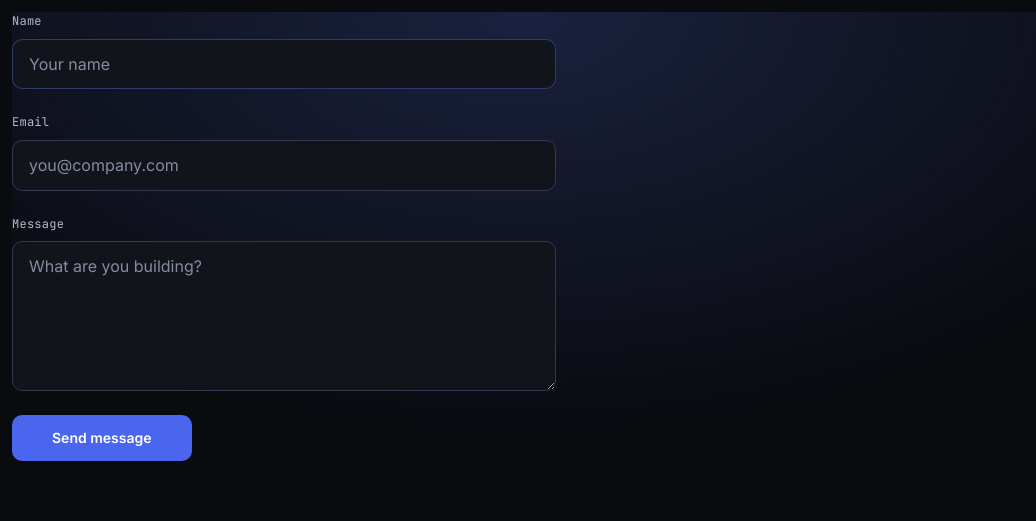
ContactForm › posts valid input and confirms in the live region
In the field labelled "Name": (284, 64) 12,39 -> 556,89, type "Anna Grigoryan"
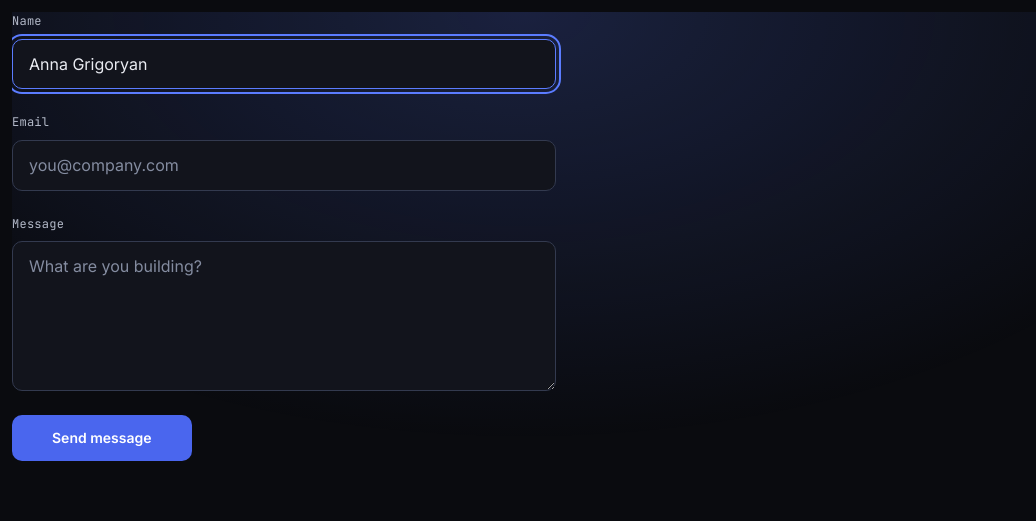
In the field labelled "Email": (284, 165) 12,140 -> 556,191, type "anna@example.com"
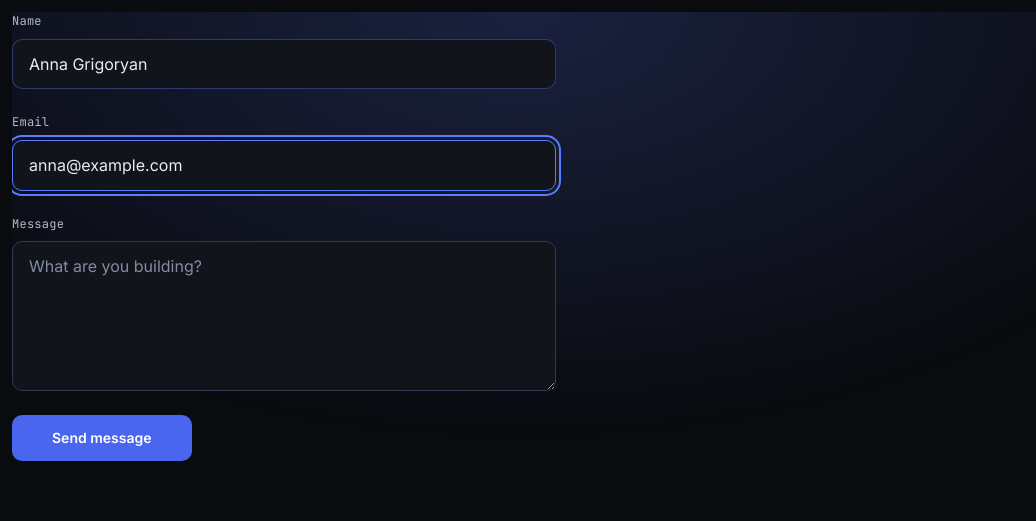
In the text box labelled "Message": (284, 316) 12,241 -> 556,391, type "We are hiring a frontend engineer and your architecture work looks relevant."
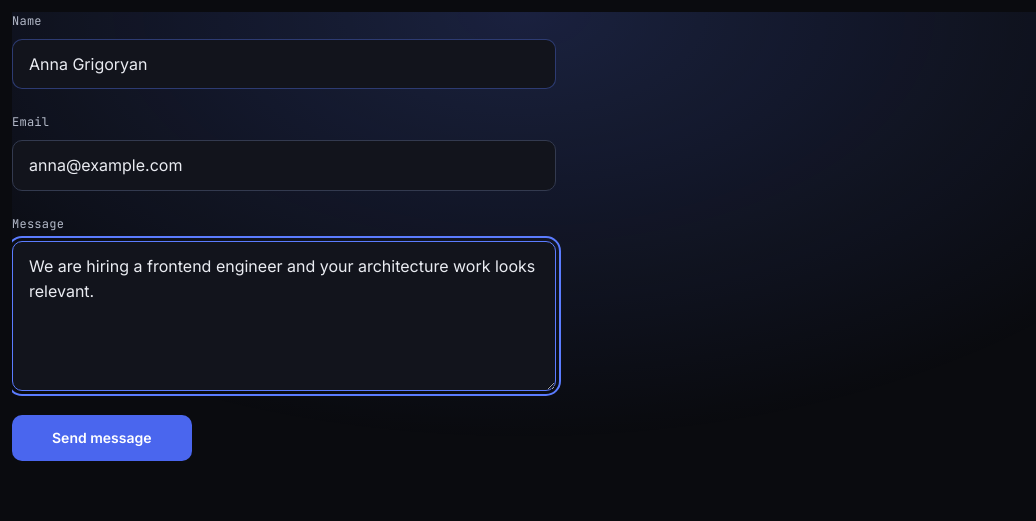
Click the button "Send message": (102, 438) 12,415 -> 192,461
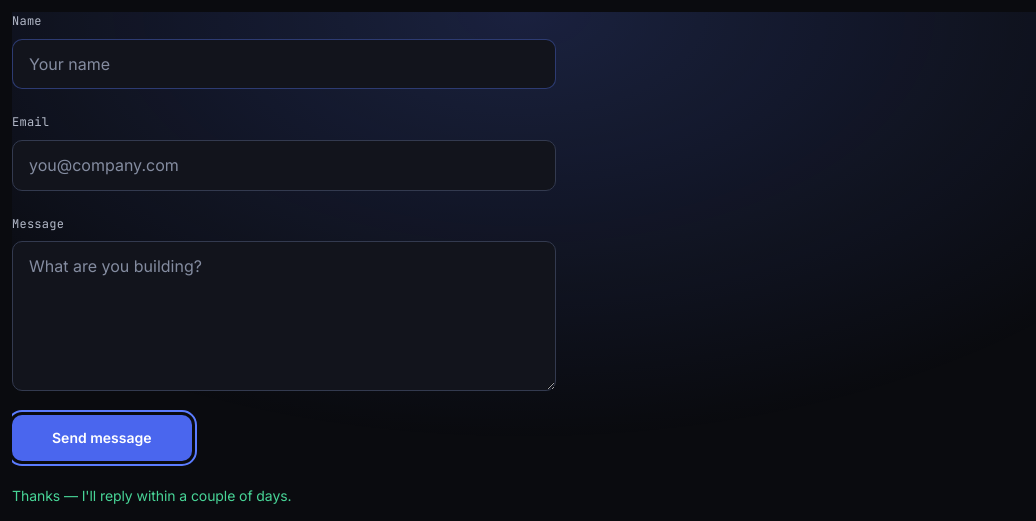
Check: the text "Thanks — I'll reply within a couple of days." is shown, box 12,487 -> 292,504
